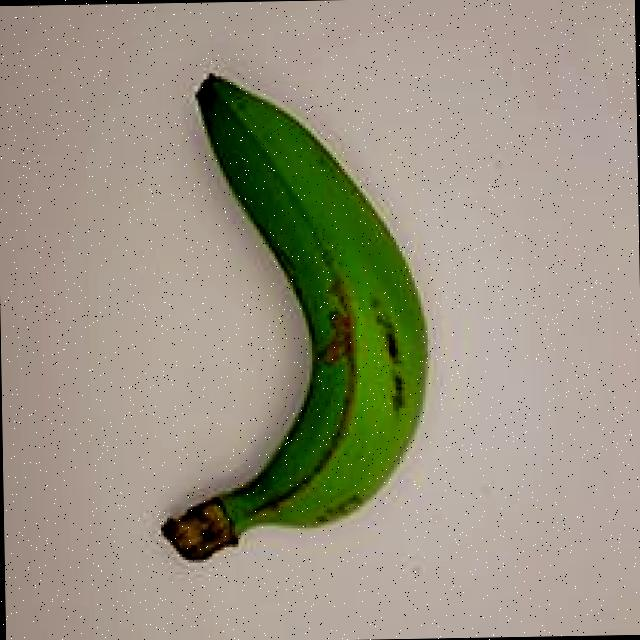Raw: (122, 36, 460, 598)
